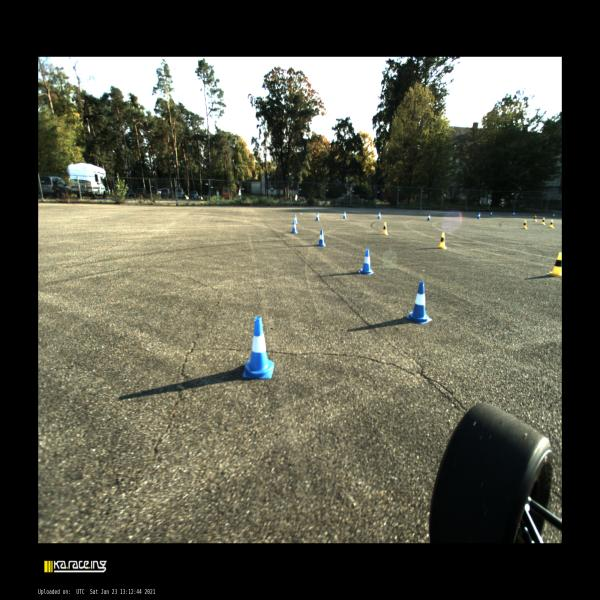blue_cone: (242, 316, 274, 379), (406, 281, 432, 324), (358, 248, 374, 275), (317, 230, 326, 246), (291, 220, 298, 234), (315, 211, 320, 221), (293, 215, 298, 224), (426, 213, 431, 221), (377, 212, 382, 219), (343, 211, 346, 218), (477, 212, 480, 219), (512, 211, 515, 216), (552, 213, 555, 218), (490, 211, 492, 217)
yellow_cone: (546, 251, 562, 278), (437, 232, 447, 249), (380, 221, 389, 235), (521, 220, 528, 229), (548, 219, 554, 229), (540, 217, 546, 225), (532, 215, 538, 222)
